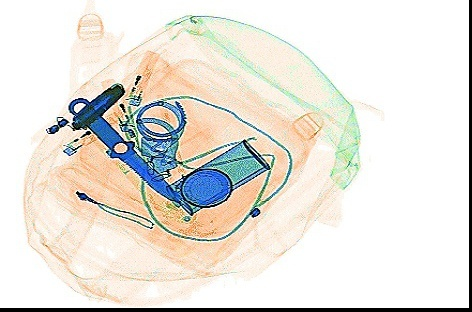handcuffs: (133, 96, 186, 183)
knife: (66, 95, 180, 202), (69, 80, 126, 131)
lighter: (56, 107, 125, 158), (123, 46, 161, 107), (98, 75, 138, 132)
zippooil: (163, 137, 273, 216)
